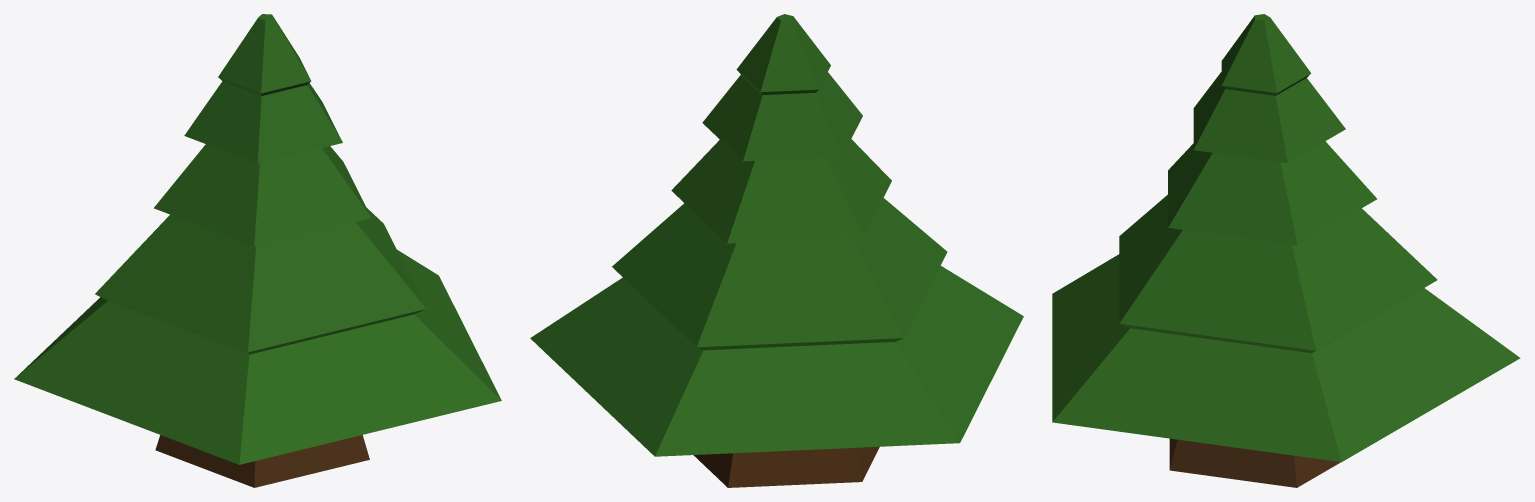
File: tree_3.fbx
3 renders of one model, left to right at view 1: azimuth 30°, elevation 25°; view 2: azimuth 150°, elevation 25°; view 3: azimuth 270°, elevation 25°, orthographic.
Parts seen in each view (by area): view 1: tree_3; view 2: tree_3; view 3: tree_3.
Boxes of the visible parts, left/top/right/bottom form: tree_3: left=14, top=14, right=501, bottom=487; tree_3: left=530, top=14, right=1023, bottom=487; tree_3: left=1052, top=14, right=1520, bottom=487.
Size of the model in its own units: 411 by 432 by 411.
